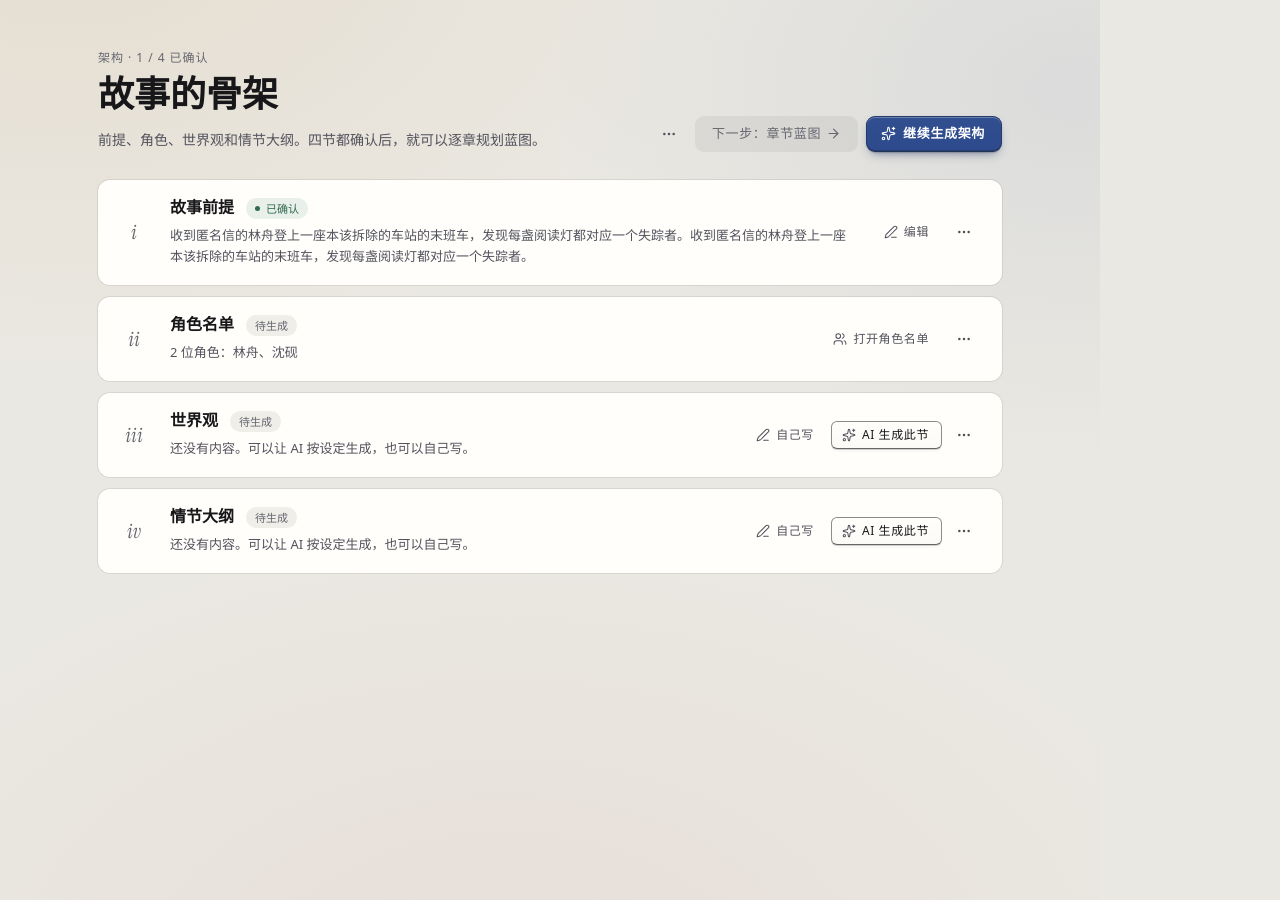
Test: 架构阶段 › 清空此节先出危险确认，取消后什么也不写、摘要不变；确认后才清空
The width and height of the screenshot is (1280, 900).
Check: the text with class "arch-badge" reads "已确认", box [266,201,299,216]
Check: the text with class "arch-section-summary" reads "2 位角色：林舟、沈砚", box [170,343,298,361]
Click the button named "「故事前提」的更多操作": (964, 232) [946,214,982,250]
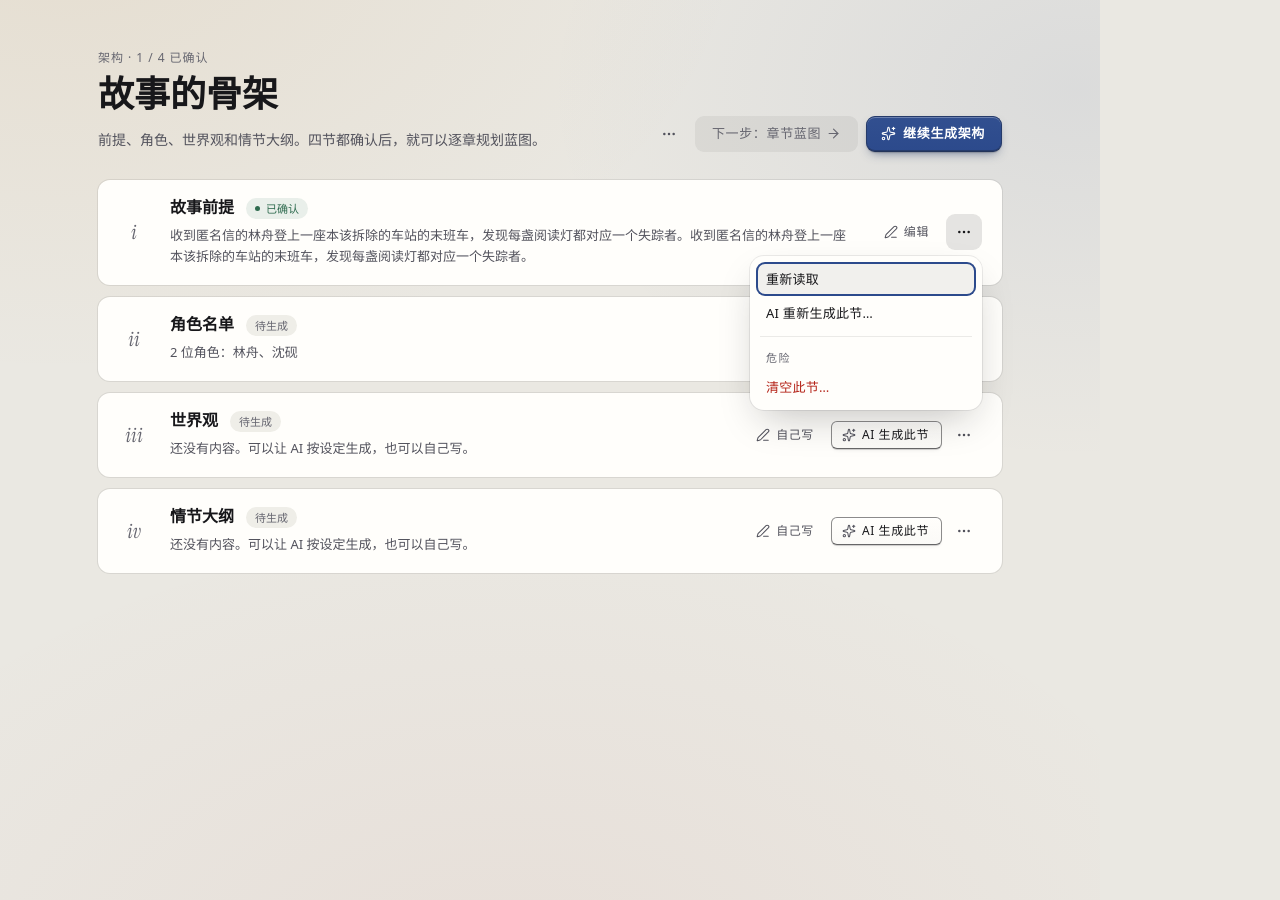
Check: the menu item "清空此节…" is shown
Click the menu item "清空此节…": (866, 387) [756,370,976,404]
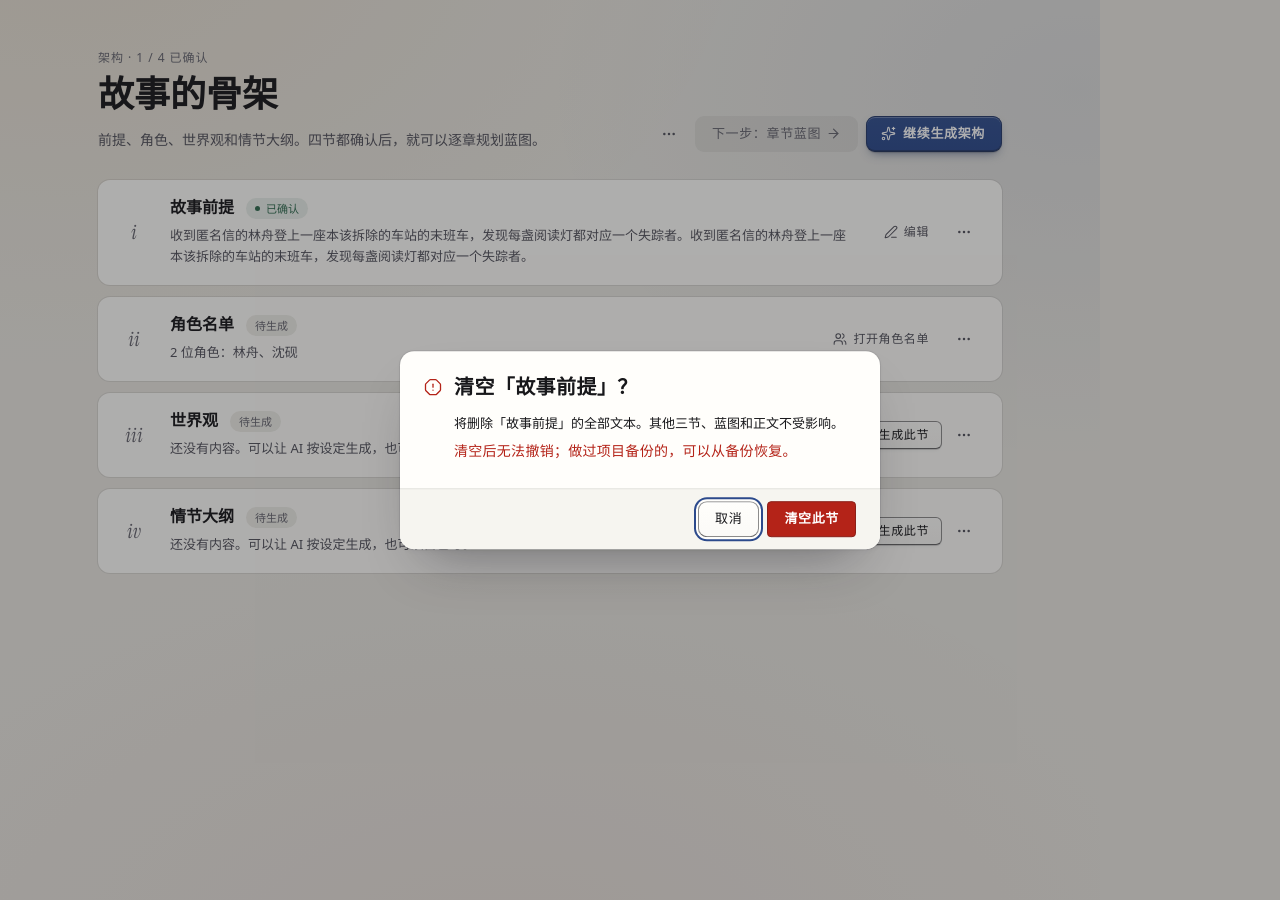
Check: the dialog shows "清空「故事前提」？", box [454,376,638,398]
Check: the dialog shows "无法撤销", box [454,444,797,459]
Check: the button "取消" is shown
Click the button "取消": (729, 519) [698,501,759,537]
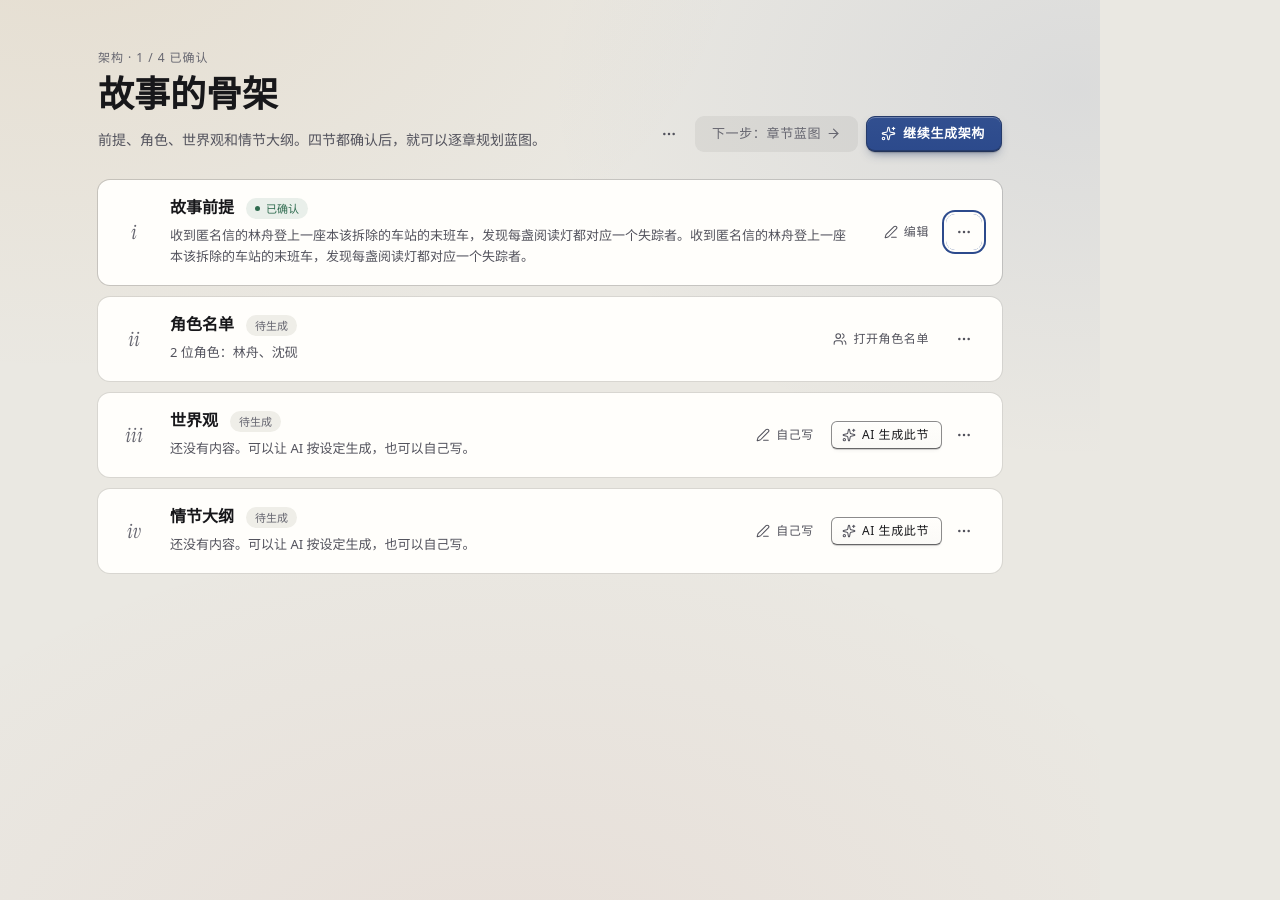
Check: the dialog is gone
Click the button named "「故事前提」的更多操作": (964, 232) [946,214,982,250]
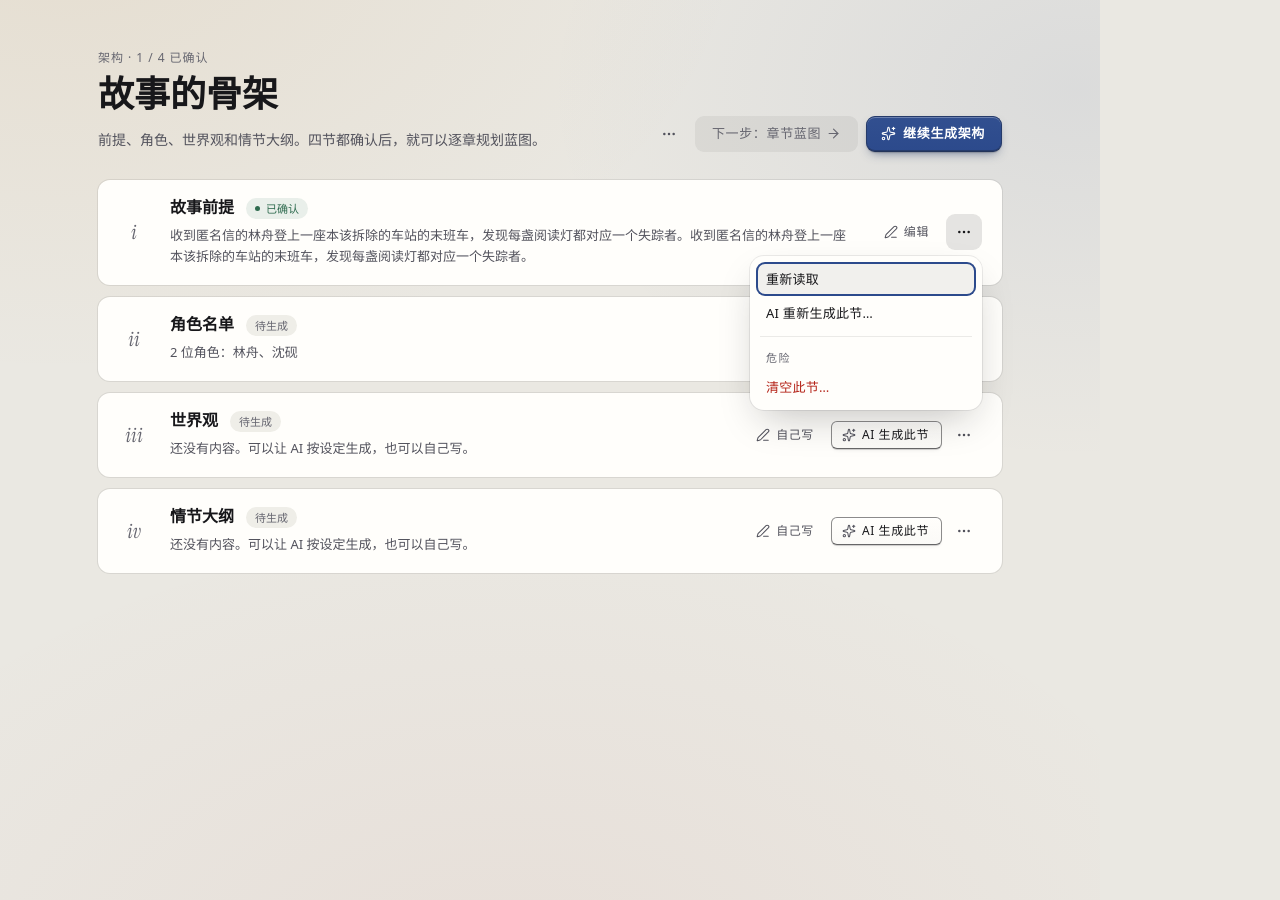
Check: the menu item "清空此节…" is shown
Click the menu item "清空此节…": (866, 387) [756,370,976,404]
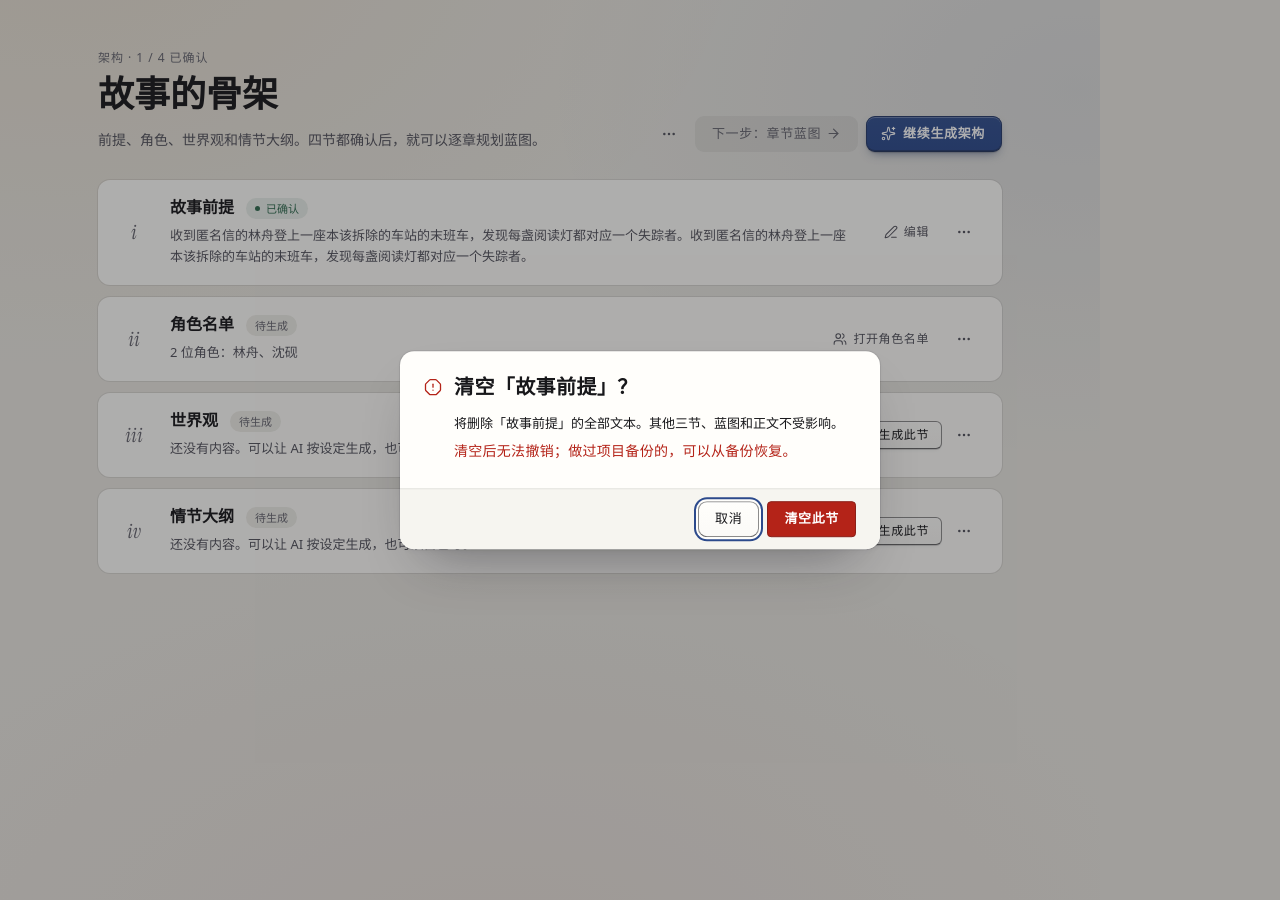
Check: the button "清空此节" is shown
Click the button "清空此节": (812, 519) [767,501,856,537]
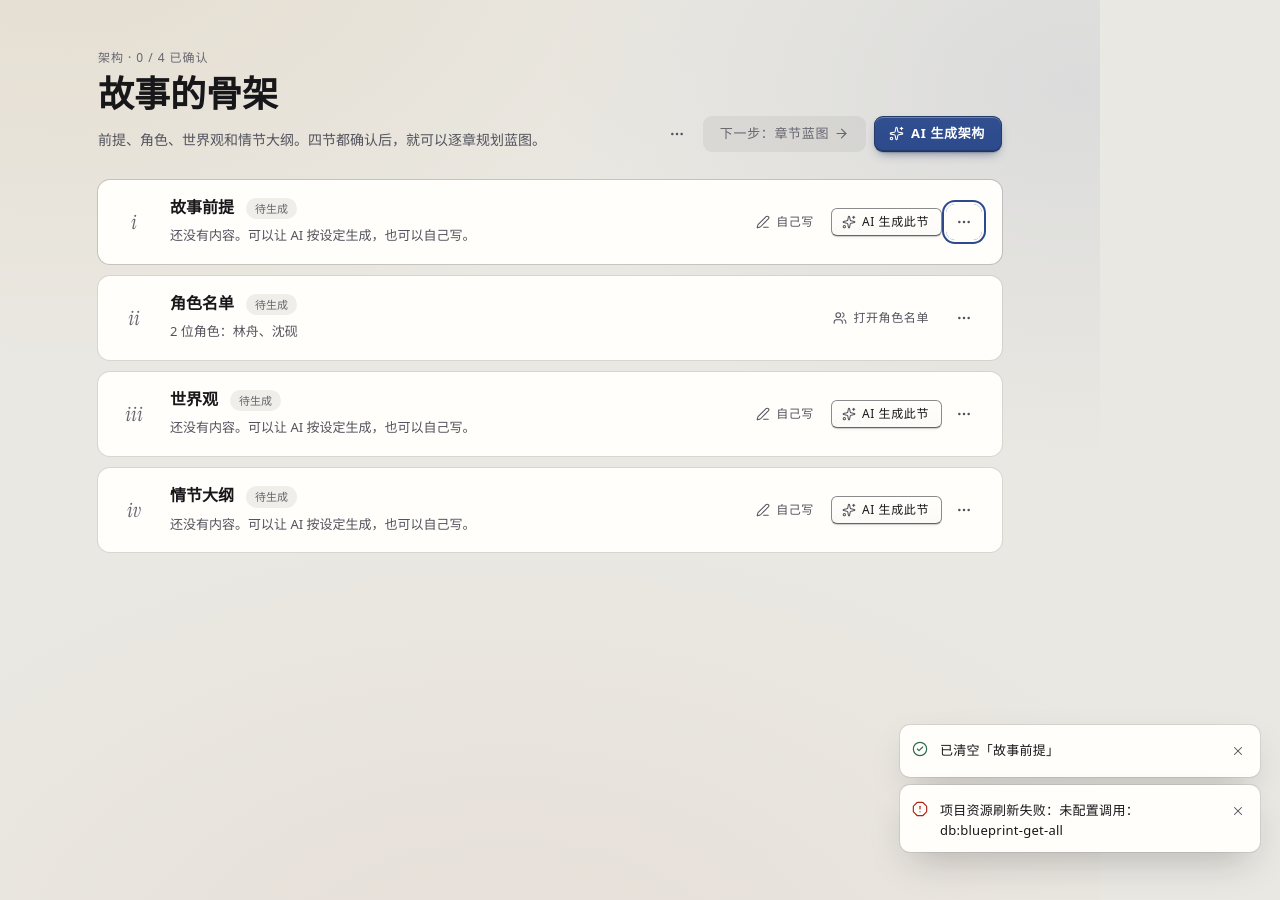
Check: the 1st text with class "arch-badge" reads "待生成", box [255,201,288,216]
